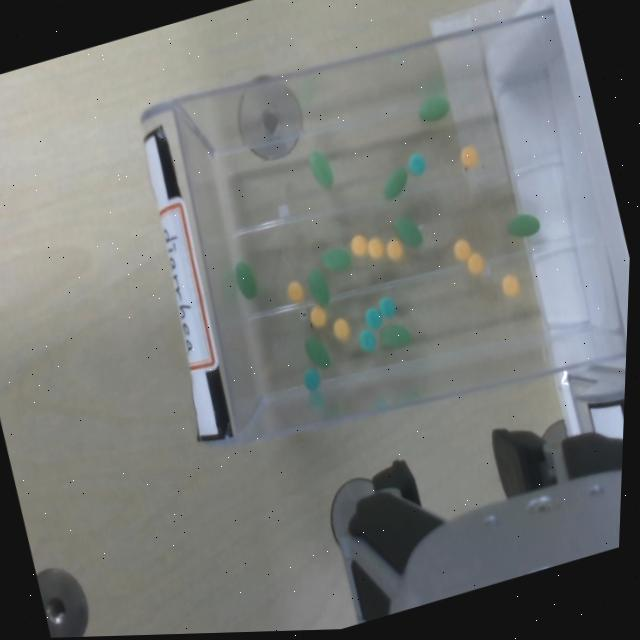famodine: (406, 150, 428, 176), (377, 292, 398, 319), (357, 328, 378, 352), (363, 303, 382, 329), (302, 366, 321, 390), (364, 306, 381, 329), (408, 152, 425, 174), (358, 329, 375, 351), (378, 296, 395, 317), (304, 367, 319, 390)
otillen_tab: (414, 90, 453, 125), (504, 207, 543, 242), (306, 147, 336, 192), (301, 330, 332, 373), (232, 257, 260, 302), (378, 165, 412, 202), (377, 319, 413, 352), (305, 265, 332, 308), (319, 242, 353, 275), (234, 261, 257, 299), (418, 94, 449, 121), (304, 335, 330, 367), (309, 151, 332, 187), (395, 216, 422, 246), (308, 268, 329, 305), (383, 167, 407, 199), (507, 213, 539, 237), (321, 246, 350, 270), (380, 324, 410, 347)
samsung_octylonium_tab: (384, 236, 406, 262), (451, 235, 473, 261), (465, 250, 486, 276), (348, 231, 369, 256), (500, 272, 521, 297), (307, 304, 328, 328), (331, 316, 352, 340), (366, 234, 386, 259), (285, 279, 305, 303), (460, 144, 479, 167), (349, 234, 367, 256), (453, 239, 471, 261), (466, 252, 484, 274), (460, 145, 477, 168), (332, 317, 349, 340), (501, 274, 519, 295), (367, 237, 384, 259), (287, 280, 304, 302), (309, 305, 326, 327), (386, 238, 402, 260)
